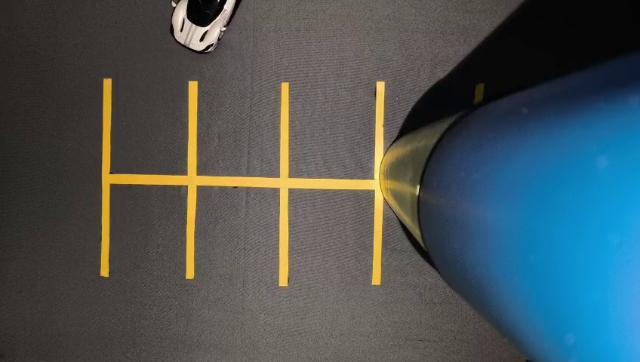toy_car: (155, 0, 285, 77)
